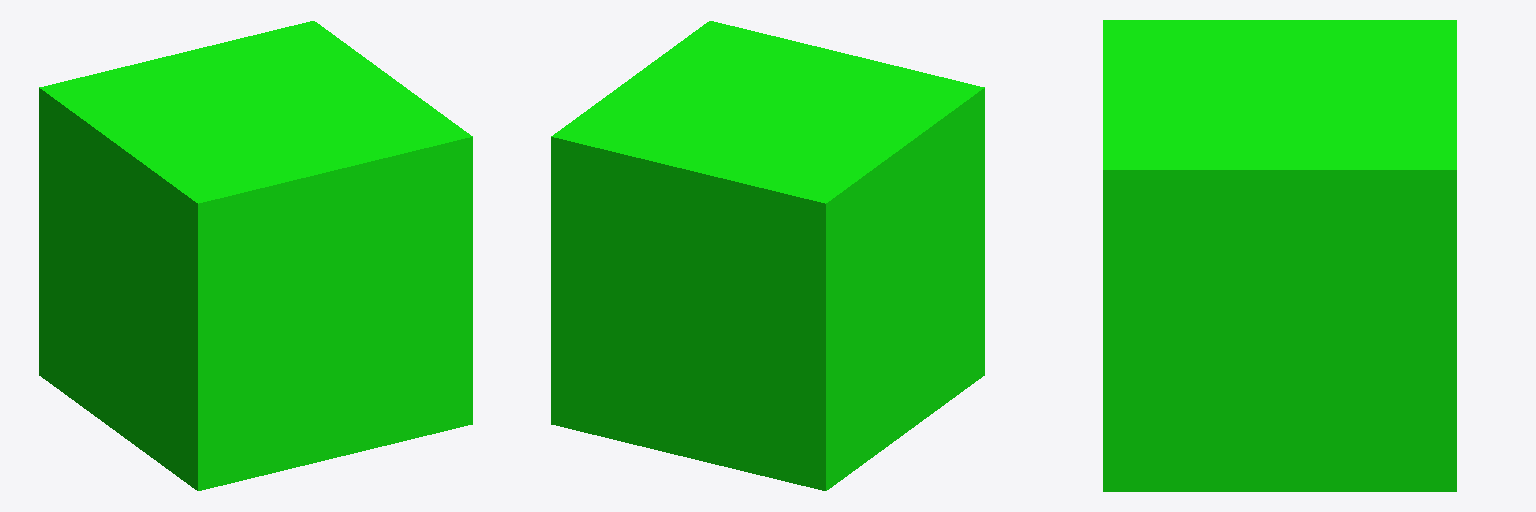
URDF robot description (green_box):
<?xml version="1.0"?>
<robot name="green_box">
  <link name="green_box_base_link">
    <contact>
      <lateral_friction value="1.0"/>
      <spinning_friction value=".001"/>
    </contact>
    <inertial>
      <origin rpy="0 0 0" xyz="0 0 0"/>
      <mass value="0"/>
      <inertia ixx="1" ixy="0" ixz="0" iyy="1" iyz="0" izz="1"/>
    </inertial>
    <visual>
      <origin rpy="0 0 0" xyz="0.0 0.0 0.0"/>
      <geometry>
        <box size="0.2 0.2 0.2"/>
      </geometry>
      <material name="green_mat">
        <color rgba="0.1 1.0 0.1 1"/>
      </material>
    </visual>
    <collision>
      <origin rpy="0 0 0" xyz="0.0 0.0 0.0"/>
      <geometry>
        <box size="0.0 0.0 0.0"/>
      </geometry>
    </collision>
  </link>
</robot>

--- What the picture shows (computed from the rendered views, not written in the file) ---
3 views of the same robot in one strip: view 1: azimuth 30°, elevation 25°; view 2: azimuth 150°, elevation 25°; view 3: azimuth 270°, elevation 25° (orthographic).
Model green_box with 1 links and 0 joints (none), rooted at green_box_base_link, posed all joints at 0.
Visible links, largest first — view 1: green_box_base_link; view 2: green_box_base_link; view 3: green_box_base_link.
Boxes of the visible links, x1=… form: green_box_base_link: x1=39, y1=21, x2=472, y2=490; green_box_base_link: x1=551, y1=21, x2=984, y2=490; green_box_base_link: x1=1103, y1=20, x2=1456, y2=491.
Bounding box of the posed robot: 0.2 × 0.2 × 0.2 m (x, y, z).
Geometry: primitives only (box / cylinder / sphere), no mesh files.